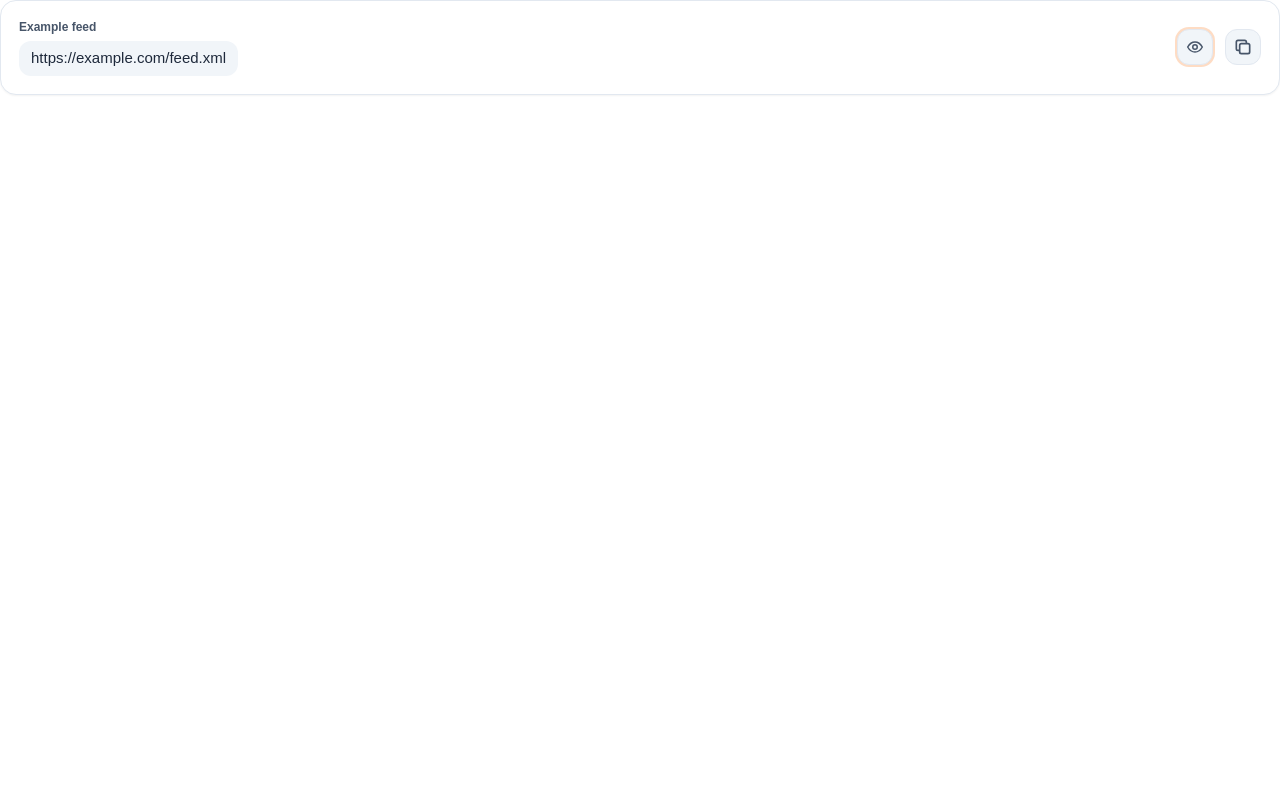
Test case: FeedResult preview dialog › restores focus after the close button is clicked
Press Enter
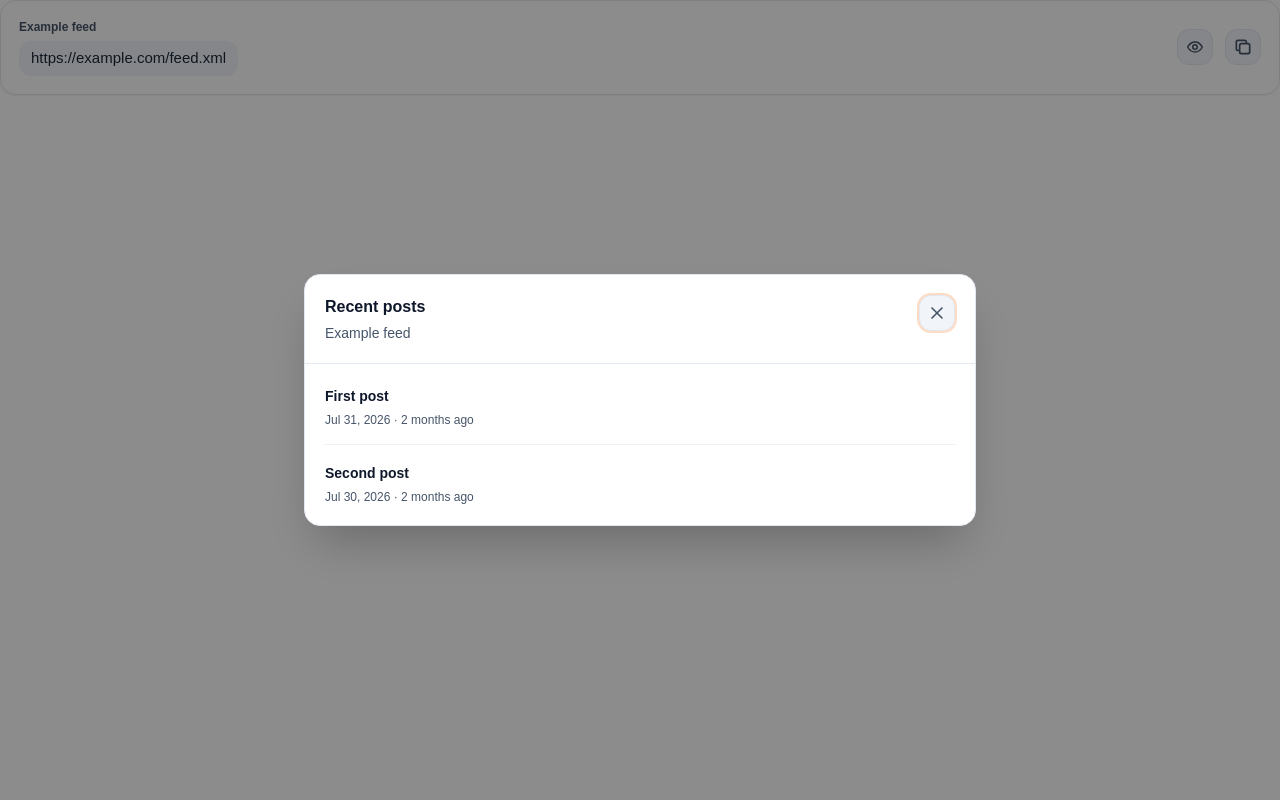
Click the button named "Close preview" at [937, 313], box [919, 295, 955, 331]
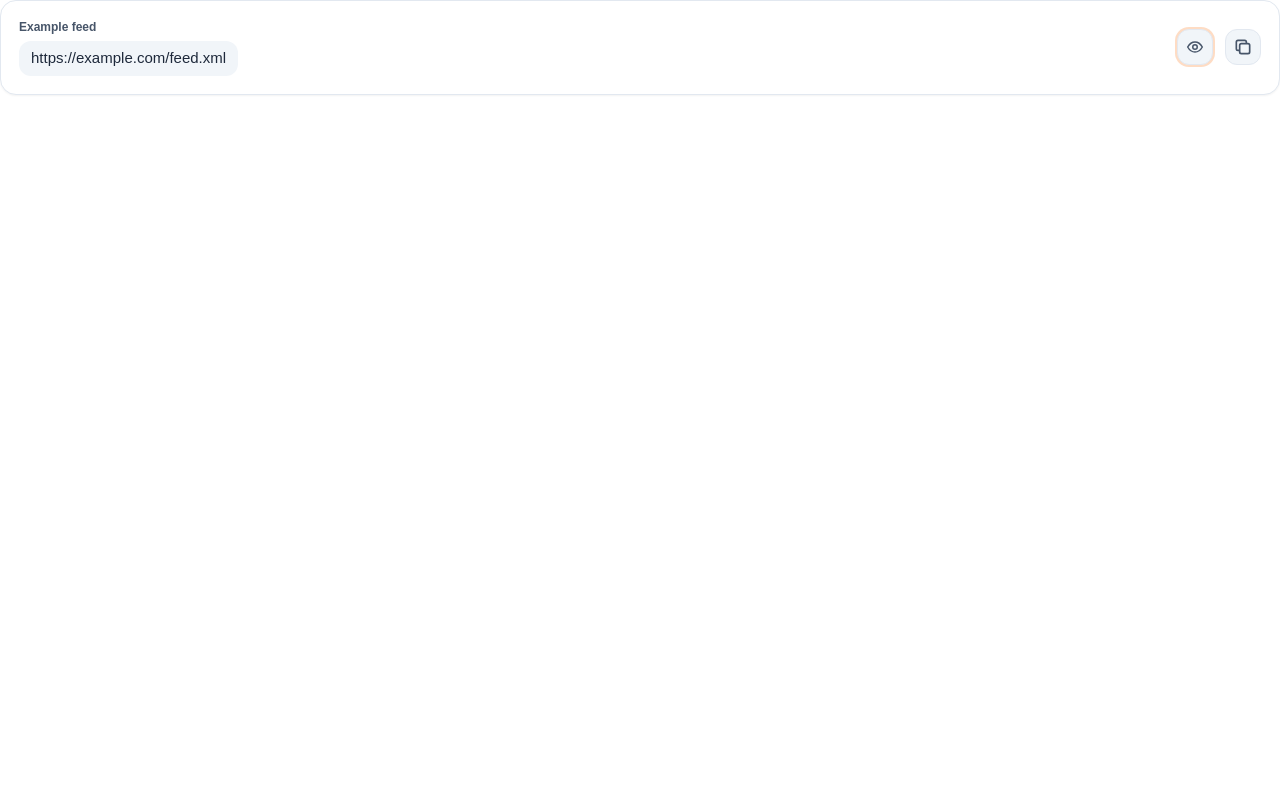
Now the heading "Recent posts" is gone
